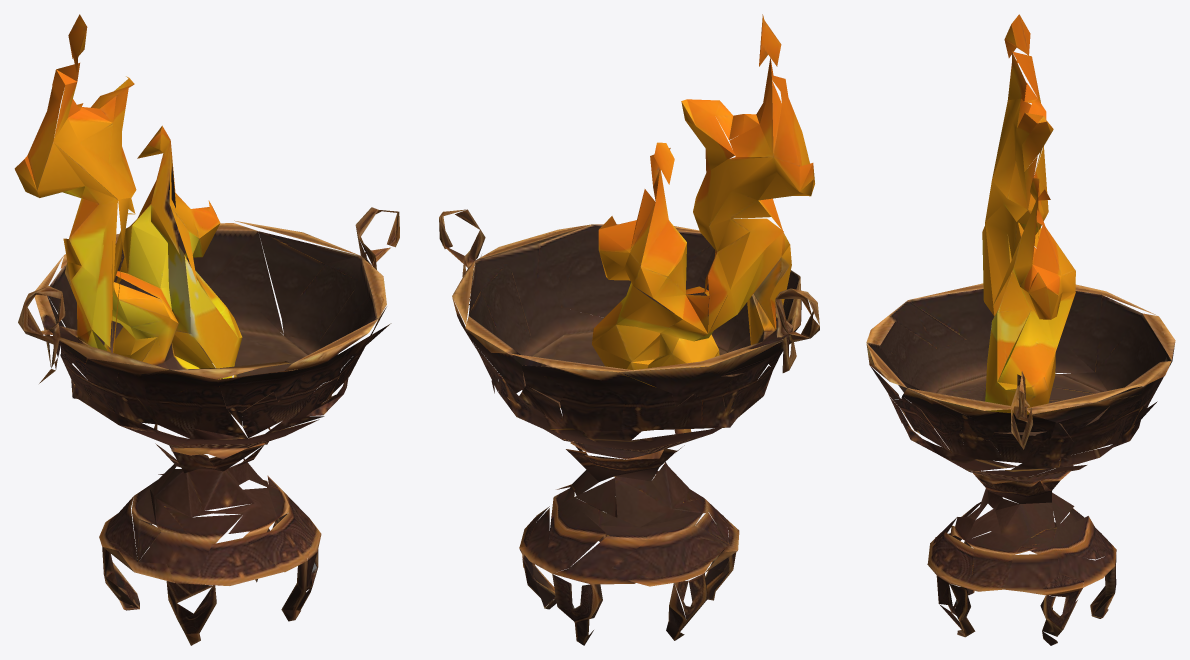
File: prop_brazier.glb
3 renders of one model, left to right at view 1: azimuth 30°, elevation 25°; view 2: azimuth 150°, elevation 25°; view 3: azimuth 270°, elevation 25°, orthographic. The views are drawn at different scales.
Visible parts, largest first — view 1: body; view 2: body; view 3: body.
Part boxes in pixels (x1,y1,x2,y2): body: (14,14,399,645); body: (439,14,819,645); body: (866,14,1175,645).
Size of the model in its own units: 1.41 by 2.2 by 1.19.
1 material, 1 textured.
